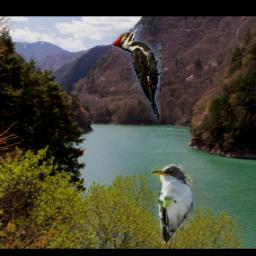Cuckoo: (152, 165, 194, 244)
Woodpecker: (112, 25, 161, 126)
